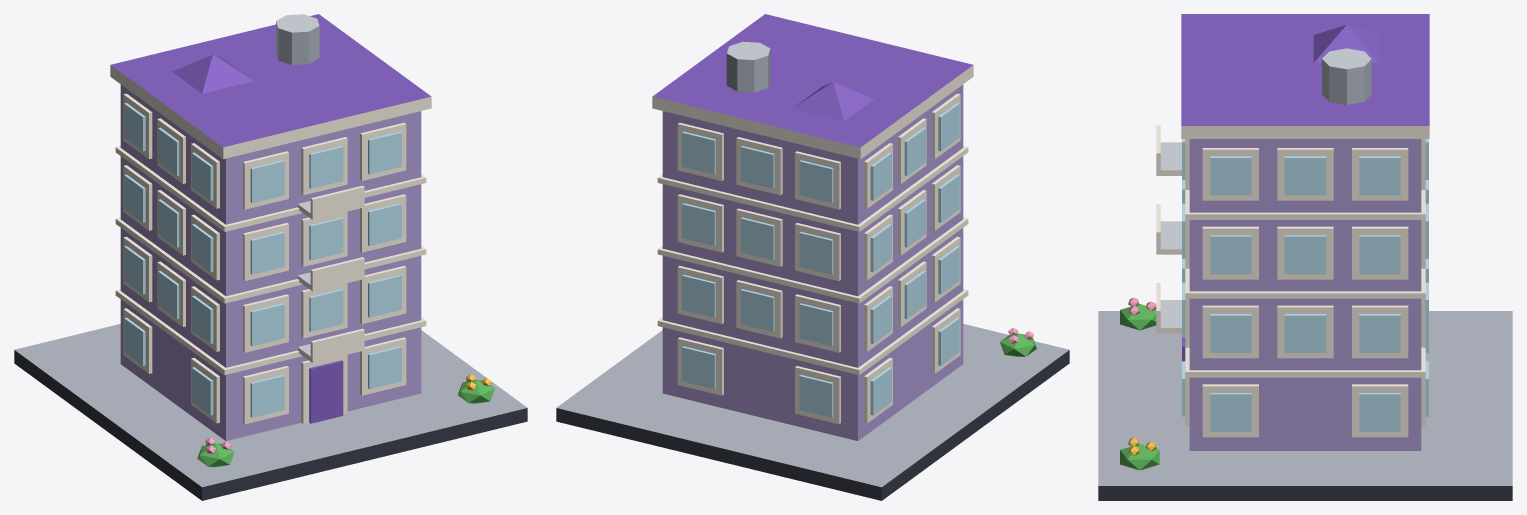
File: house_apartment.glb
3 views of the same model, side by side, from view 1: azimuth 30°, elevation 25°; view 2: azimuth 150°, elevation 25°; view 3: azimuth 270°, elevation 25° (orthographic). The views are drawn at different scales.
Visible parts, largest first — view 1: house_apartment; view 2: house_apartment; view 3: house_apartment.
Boxes of the visible parts, bbox=[...] form: house_apartment: bbox=[14, 14, 527, 500]; house_apartment: bbox=[556, 14, 1069, 500]; house_apartment: bbox=[1098, 14, 1512, 500].
Size of the model in its own units: 1 by 1.01 by 1.
